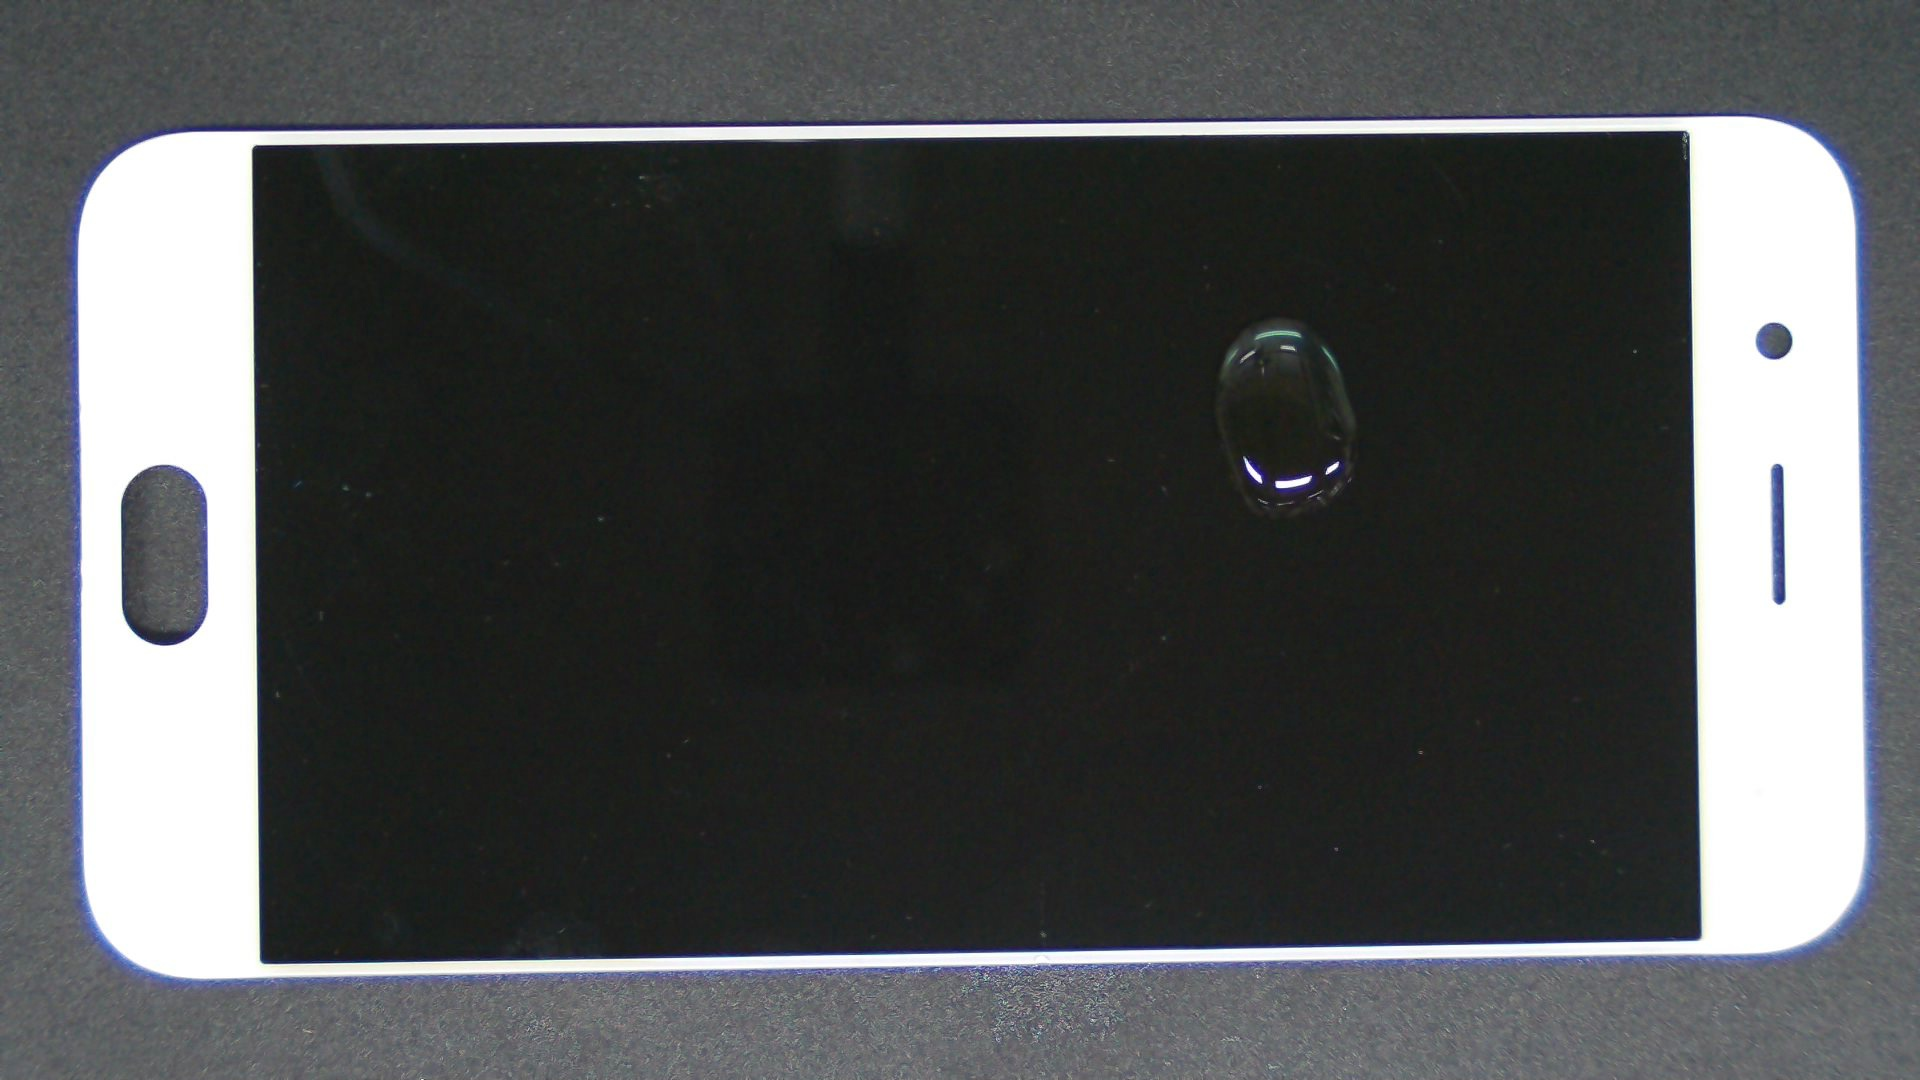oil: (636, 158, 1904, 477)
